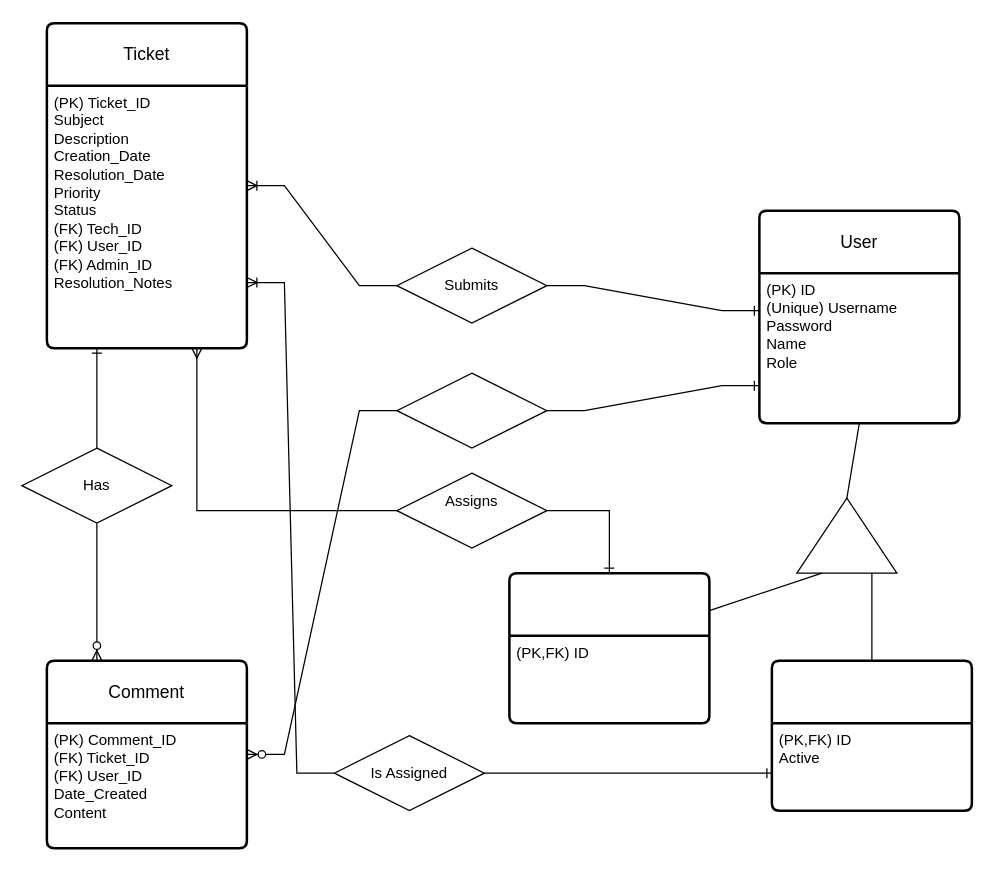
Some shapes in this 995 by 870 pixel diagram are drawn without their labels. The box of each missing label's shape, as (x1, y1, x2, y2) in pixels:
Administrator: (508, 571, 710, 724)
IS A: (796, 497, 897, 573)
Technician: (770, 659, 972, 811)
Writes: (396, 372, 547, 448)
